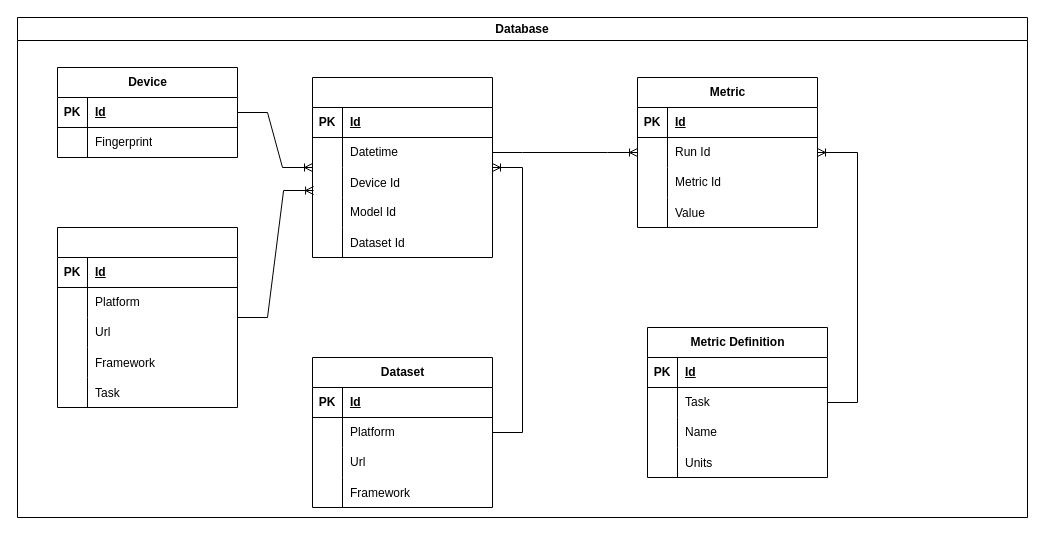
This 1045x535 diagram has some shape labels left out. Here are the shapes that lost their labels. From the top down, the box of each, then its label:
(312, 76, 492, 258): Run
(56, 226, 238, 408): Model
